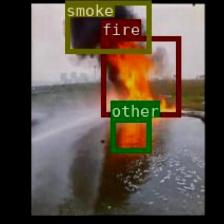fire: (101, 36, 180, 116)
smoke: (65, 0, 150, 53)
